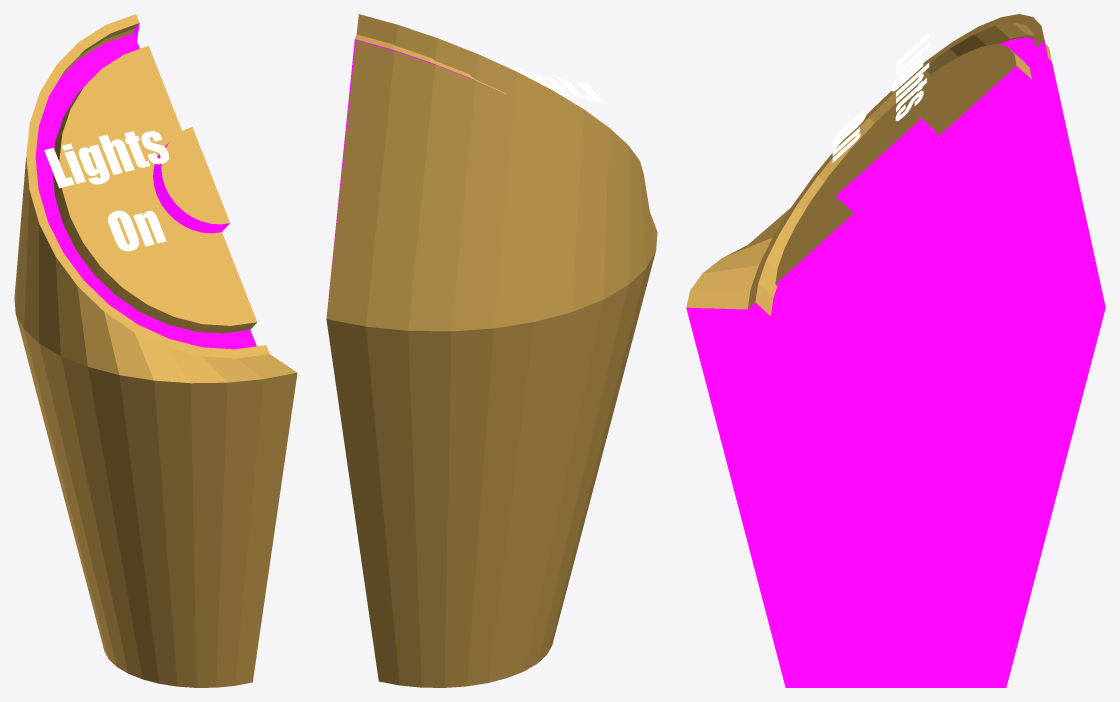
The model's file is onSwitch.glb.
3 renders of one model, left to right at view 1: azimuth 30°, elevation 25°; view 2: azimuth 150°, elevation 25°; view 3: azimuth 270°, elevation 25°, orthographic. The views are drawn at different scales.
Visible parts, largest first — view 1: switchON; view 2: switchON; view 3: switchON.
Part boxes in pixels (left/top/right/bottom): switchON: left=14, top=14, right=297, bottom=687; switchON: left=326, top=14, right=657, bottom=687; switchON: left=686, top=14, right=1105, bottom=687.
Bounding box in the file's own units: 0.4361 × 1.48 × 0.8721.
